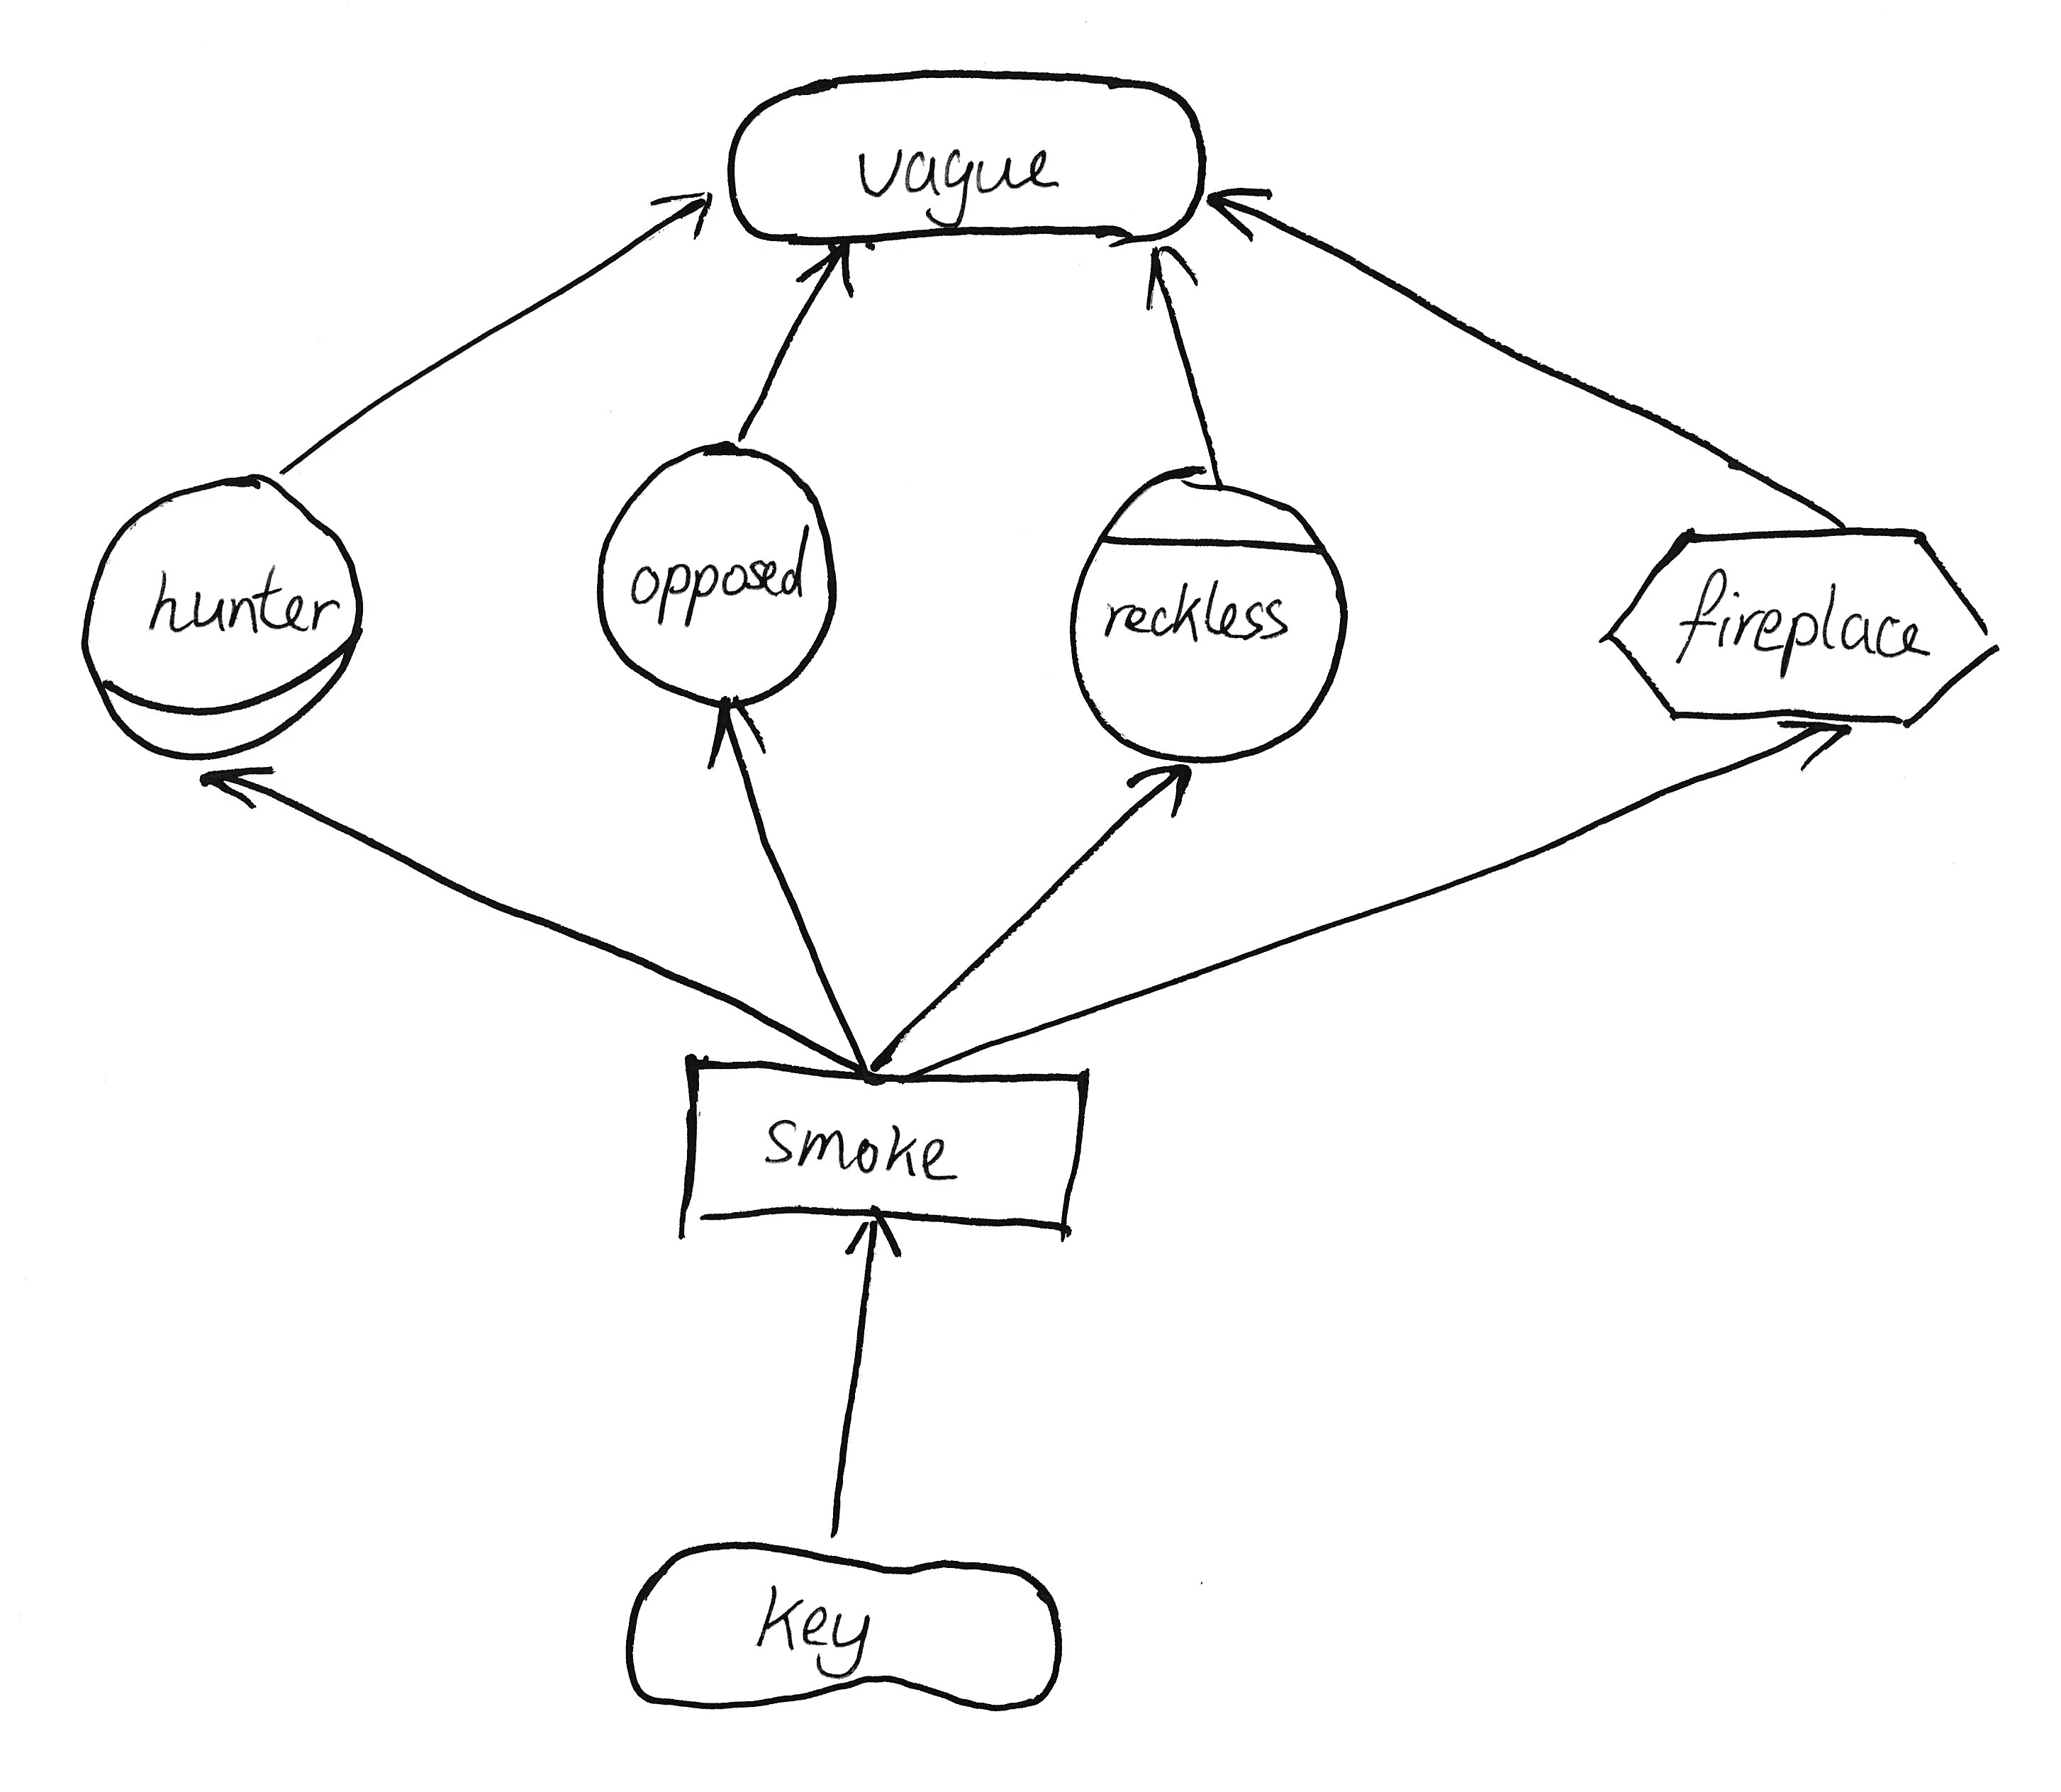actor: (578, 424, 853, 722)
agent: (1050, 450, 1365, 776)
arrow: (1197, 170, 1286, 261), (641, 172, 722, 265), (1768, 715, 1866, 790), (1125, 236, 1209, 324), (1116, 758, 1209, 832), (699, 695, 778, 780), (836, 1205, 917, 1286), (189, 758, 291, 822), (783, 240, 871, 312)
goal: (713, 47, 1222, 265)
quality: (606, 1520, 1074, 1732)
resource: (657, 1041, 1120, 1256)
role: (65, 454, 379, 774)
task: (1579, 508, 2010, 746)
